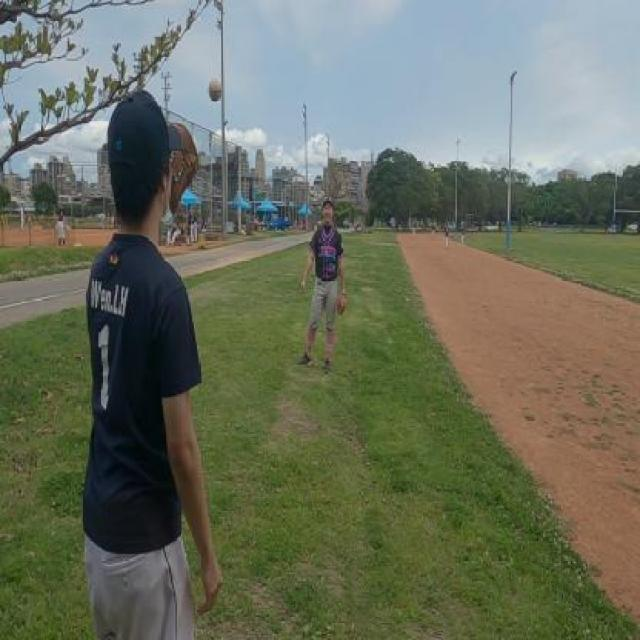baseball: (208, 78, 222, 102)
